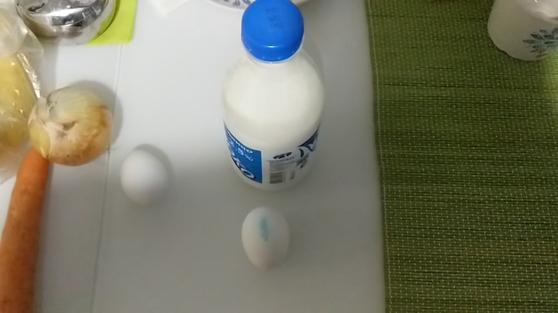carrot: (1, 158, 50, 313)
egg: (235, 202, 300, 271), (114, 143, 178, 209)
milk: (213, 2, 331, 198)
onion: (24, 80, 113, 170)
